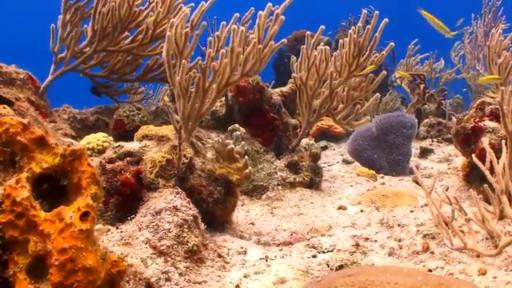Fish: (418, 8, 461, 38), (357, 65, 377, 75), (477, 76, 501, 84), (90, 85, 103, 97), (396, 71, 412, 80), (486, 92, 499, 98), (456, 18, 464, 27)
